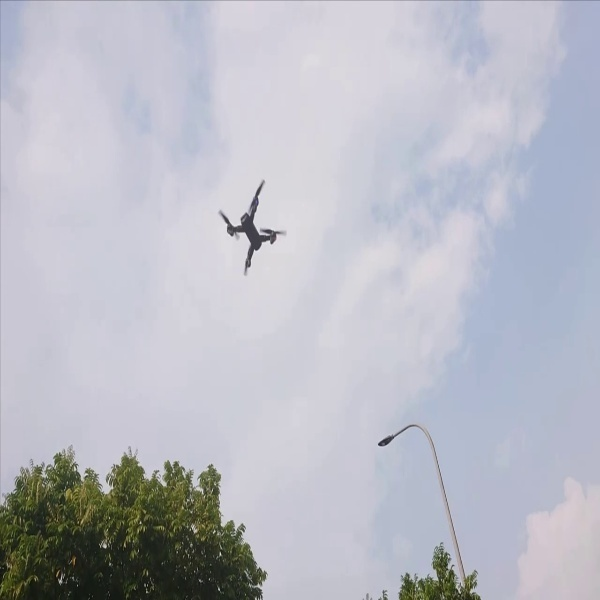drone: (218, 179, 292, 276)
